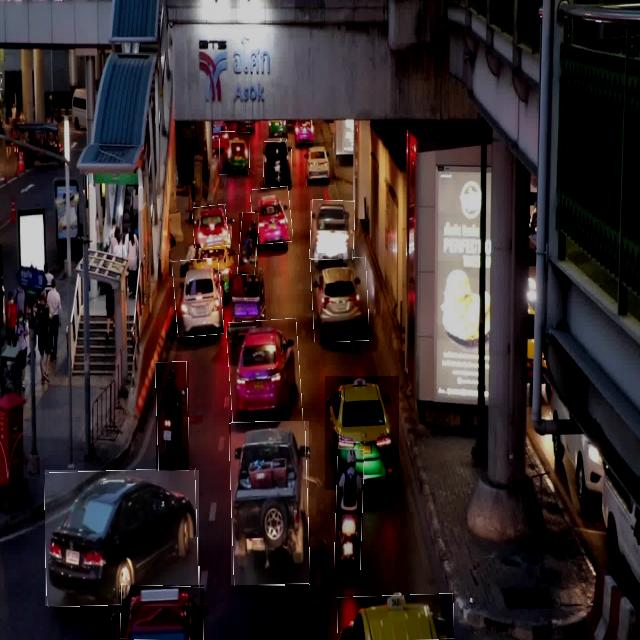Car: (46, 470, 200, 606), (325, 376, 399, 491), (228, 319, 302, 426), (337, 594, 454, 640), (311, 257, 368, 342), (120, 585, 204, 640), (173, 259, 223, 337), (252, 187, 292, 244), (193, 205, 230, 248), (219, 132, 250, 175), (263, 141, 292, 184), (306, 142, 334, 186)
Motorcycle: (156, 362, 189, 471), (335, 449, 363, 576), (239, 213, 258, 275)
Truck: (231, 422, 309, 586), (310, 200, 355, 259)
